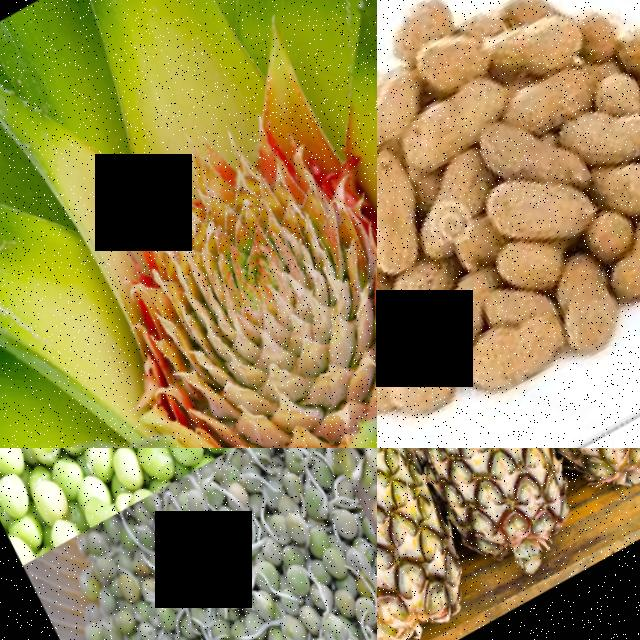peanuts: (453, 307, 568, 413), (392, 77, 510, 179), (471, 165, 574, 275), (533, 259, 628, 371), (479, 4, 582, 97), (553, 94, 640, 195), (504, 62, 598, 146), (377, 147, 435, 281), (377, 343, 456, 440), (407, 285, 488, 372), (405, 23, 489, 106), (377, 0, 461, 73), (377, 67, 429, 181), (582, 153, 640, 240), (595, 205, 640, 316), (604, 7, 640, 101)
peas: (0, 448, 308, 555)
pineapple: (377, 448, 594, 617), (425, 448, 640, 542), (377, 448, 481, 640)
